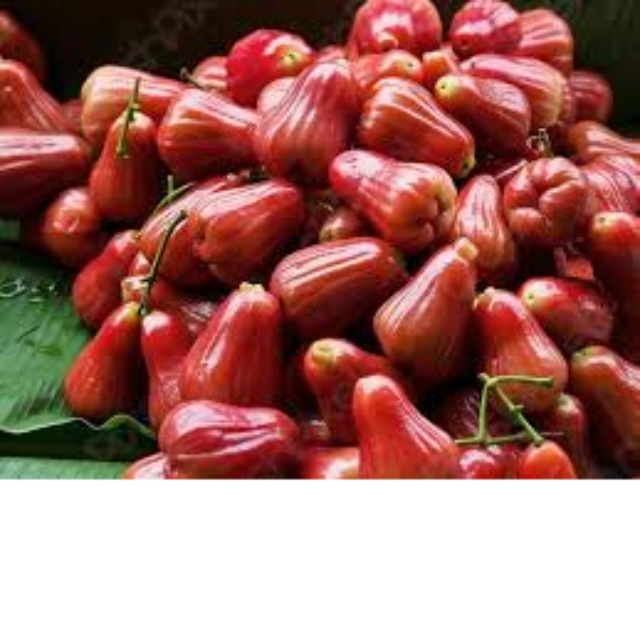xoai: (311, 140, 464, 243), (362, 68, 486, 185), (369, 239, 479, 370), (253, 57, 369, 172), (344, 372, 462, 483), (186, 279, 283, 405), (153, 390, 297, 474), (189, 174, 301, 280), (273, 235, 400, 328), (471, 284, 566, 403), (56, 294, 149, 415), (83, 110, 174, 229), (499, 151, 589, 243)
